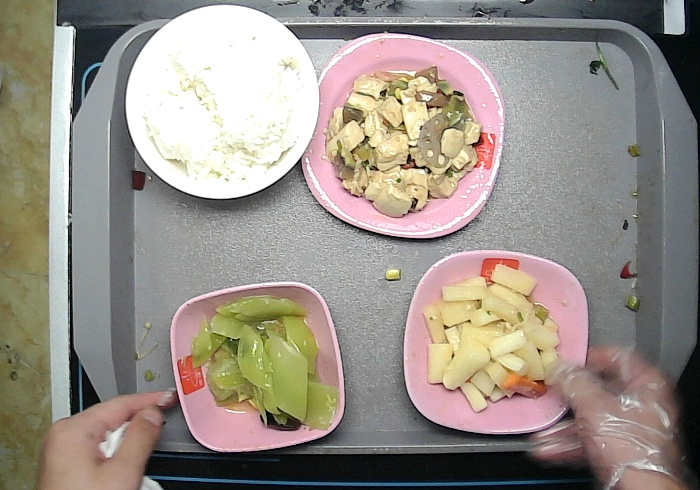SHKJ-Fan_Wan: (123, 3, 321, 201)
SHKJ-Fen_Se_Cai_Die: (400, 247, 592, 438)
SHKJ-Fen_Se_Si_Fang_Cai_Die: (298, 30, 507, 241)
SHKJ-Fen_Se_Xiao_Fang_Die: (166, 280, 347, 456)
